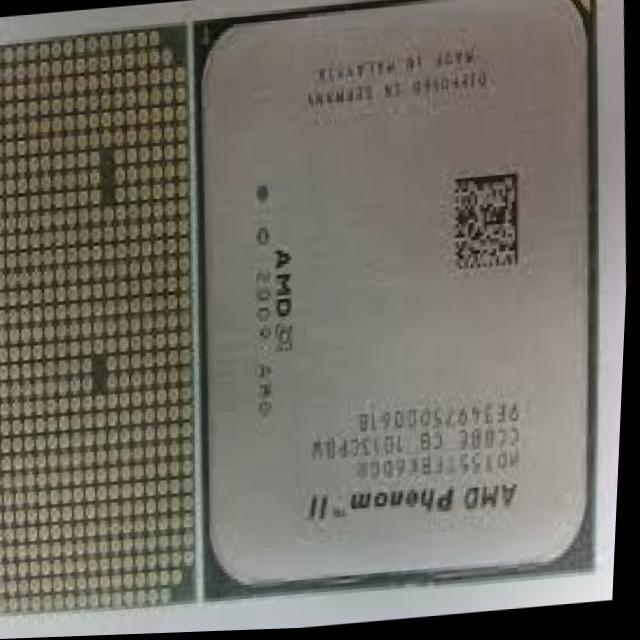datamatrix: (444, 170, 536, 288)
